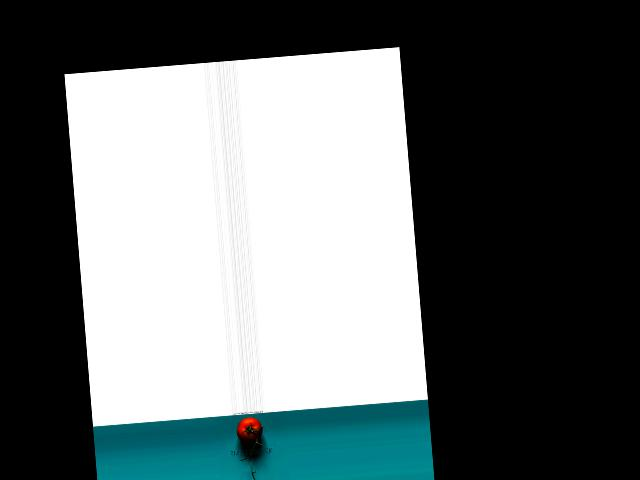tomato: (236, 416, 264, 444)
